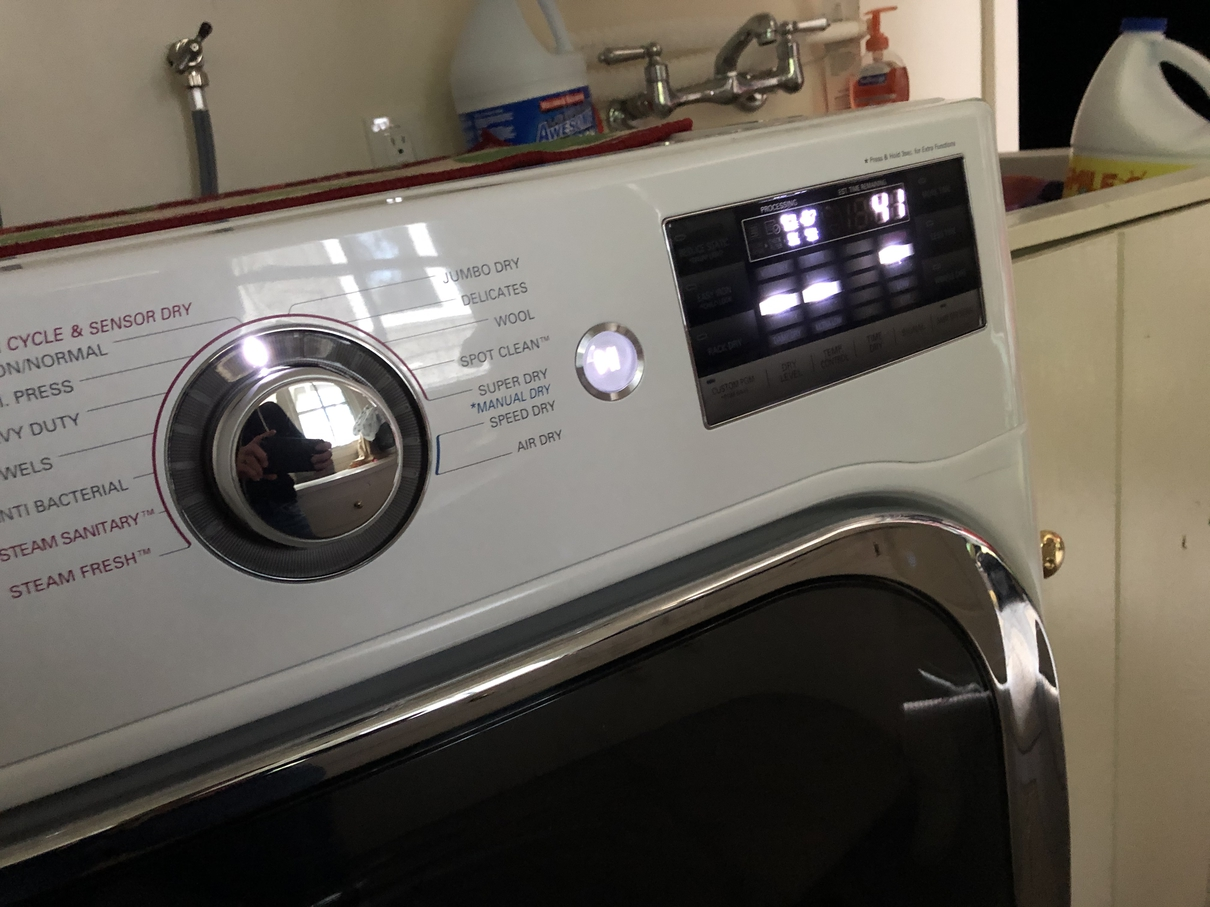status: (710, 177, 925, 271)
